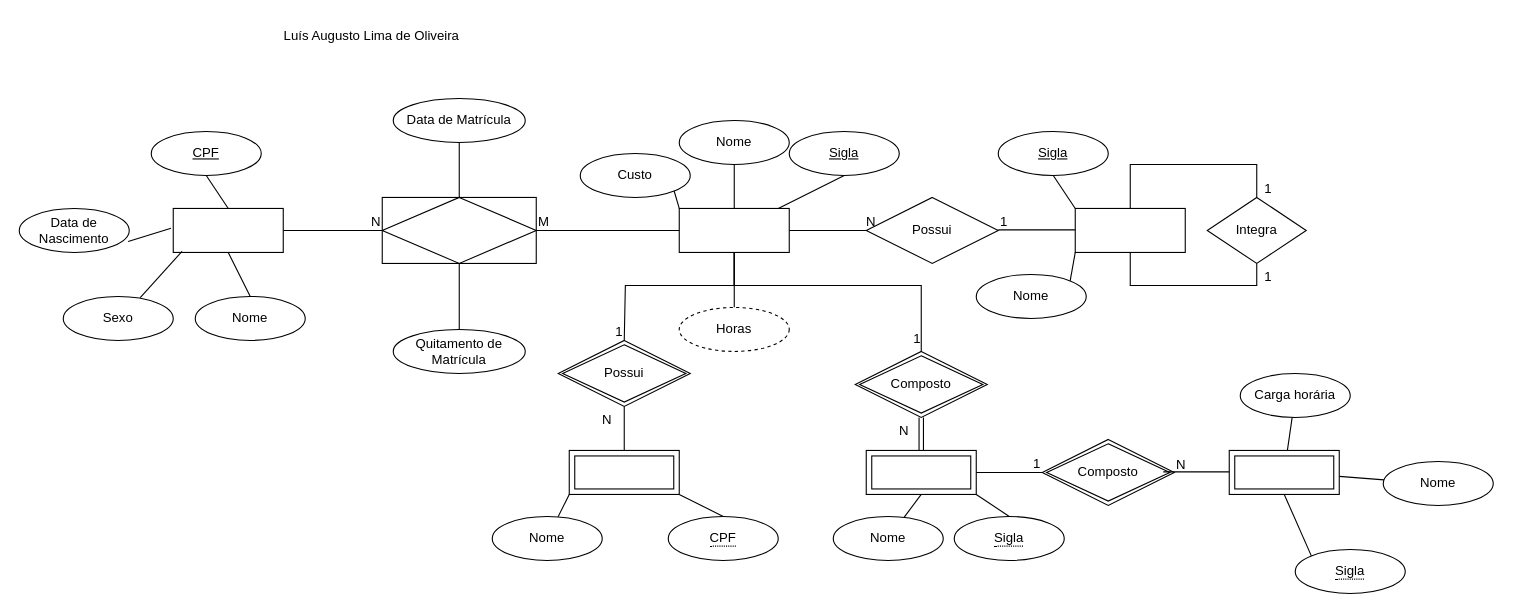
This 1513x613 diagram has some shape labels left out. The centre of each missing label's shape, as x and y in pixels:
"Aluno" goes at (227,229).
"Curso" goes at (733,229).
"Matricula" goes at (458,229).
"Módulo" goes at (920,471).
"Professor" goes at (623,471).
"Tópico" goes at (1283,471).
"Área de conhecimento" goes at (1129,229).
